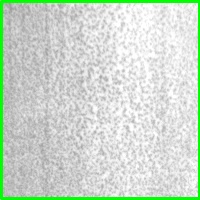pitted_surface: (1, 1, 199, 198)
